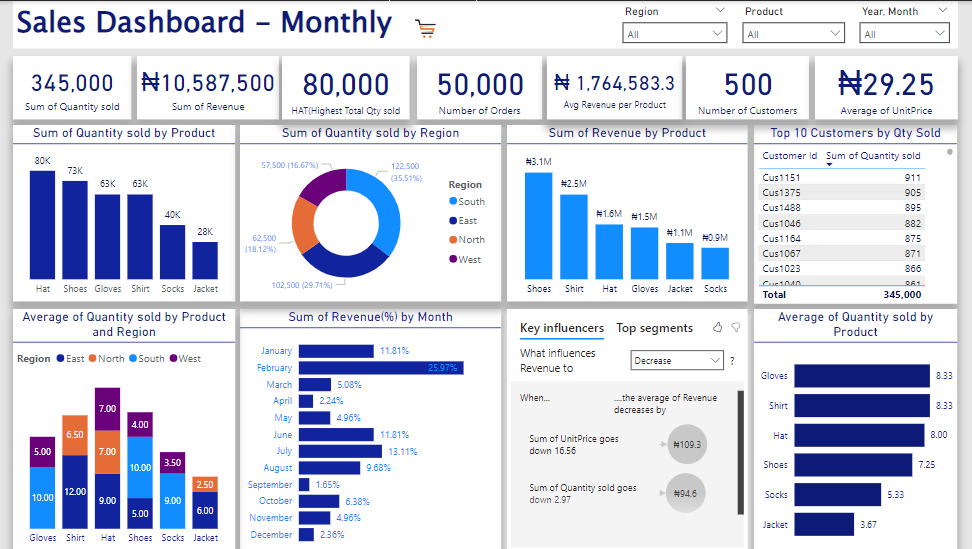

What the dashboard file says about the page in this screenshot:
{"tool":"powerbi","page":{"name":"Page 1","canvas":[1280,720],"ordinal":0},"visuals":[{"type":"textbox","title":"Sales Dashboard - Monthly","box":[17.6,19.1,1246,94],"z":0},{"type":"card","fields":{"Values":["Sum(Sheet1.Quantity sold)"]},"box":[17.6,113.1,248.3,107.3],"z":1000},{"type":"card","fields":{"Values":["Sum(Sheet1.Revenue)"]},"box":[288,114.6,227.8,105.8],"z":2000},{"type":"card","fields":{"Values":["CountNonNull(Sheet1.OrderID)"]},"box":[756.7,114.6,249.8,105.8],"z":3000},{"type":"clusteredColumnChart","fields":{"Category":["Sheet1.Product"],"Y":["Sum(Sheet1.Quantity sold)"]},"box":[17.6,229.2,383.5,230.7],"z":4000},{"type":"areaChart","fields":{"Category":["Sheet1.Region","Sheet1.OrderMonth.Variation.Date Hierarchy.Month","Sheet1.OrderMonth.Variation.Date Hierarchy.Day"],"Y":["Sum(Sheet1.Revenue)"]},"box":[17.6,470.2,498.1,238],"z":5000},{"type":"donutChart","fields":{"Y":["Sum(Sheet1.Quantity sold)"],"Category":["Sheet1.Region"]},"box":[423.2,229.2,396.7,230.7],"z":6000},{"type":"tableEx","title":"Top 10 Customers by Qty Sold","fields":{"Values":["Sheet1.Customer Id","Sum(Sheet1.Quantity sold)"]},"box":[953.6,470.2,310,238],"z":7000},{"type":"clusteredColumnChart","fields":{"Y":["Sum(Sheet1.Revenue)"],"Category":["Sheet1.Product"]},"box":[837.6,229.2,426.1,230.7],"z":8000},{"type":"clusteredBarChart","fields":{"Y":["Avg(Sheet1.Quantity sold)"],"Category":["Sheet1.Product"]},"box":[542.2,470.2,386.4,238],"z":9000},{"type":"slicer","fields":{"Values":["Sheet1.OrderMonth.Variation.Date Hierarchy.Year","Sheet1.OrderMonth.Variation.Date Hierarchy.Month"]},"box":[1116.7,20.6,163.1,61.7],"z":10000},{"type":"slicer","fields":{"Values":["Sheet1.Product"]},"box":[919.8,20.6,196.9,61.7],"z":12000},{"type":"card","fields":{"Values":["Sheet1.Avg Revenue per Product"]},"box":[1018.3,113.1,245.4,107.3],"z":13000},{"type":"slicer","fields":{"Values":["Sheet1.Region"]},"box":[740.6,20.6,179.3,61.7],"z":14000},{"type":"image","box":[506.9,19.1,70.5,61.7],"z":15000},{"type":"card","fields":{"Values":["Sum(Sheet1.Quantity sold)"]},"box":[529.1,114.2,211.7,105.8],"z":15001}]}

Visuals, with their boxes in screenshot pixels (x1, y1, x2, y2), scaled from the page's 1280x720 canvas onto the 972x549 screenshot:
"Sales Dashboard - Monthly" textbox: BBox(13, 15, 960, 86)
card - Sum(Sheet1.Quantity sold): BBox(13, 86, 202, 168)
card - Sum(Sheet1.Revenue): BBox(219, 87, 392, 168)
card - CountNonNull(Sheet1.OrderID): BBox(575, 87, 764, 168)
clusteredColumnChart - Sheet1.Product x Sum(Sheet1.Quantity sold): BBox(13, 175, 305, 351)
areaChart - Sheet1.Region x Sheet1.OrderMonth.Variation.Date Hierarchy.Month: BBox(13, 359, 392, 540)
donutChart - Sum(Sheet1.Quantity sold) x Sheet1.Region: BBox(321, 175, 623, 351)
"Top 10 Customers by Qty Sold" tableEx: BBox(724, 359, 960, 540)
clusteredColumnChart - Sum(Sheet1.Revenue) x Sheet1.Product: BBox(636, 175, 960, 351)
clusteredBarChart - Avg(Sheet1.Quantity sold) x Sheet1.Product: BBox(412, 359, 705, 540)
slicer - Sheet1.OrderMonth.Variation.Date Hierarchy.Year x Sheet1.OrderMonth.Variation.Date Hierarchy.Month: BBox(848, 16, 971, 63)
slicer - Sheet1.Product: BBox(698, 16, 848, 63)
card - Sheet1.Avg Revenue per Product: BBox(773, 86, 960, 168)
slicer - Sheet1.Region: BBox(562, 16, 699, 63)
image: BBox(385, 15, 438, 62)
card - Sum(Sheet1.Quantity sold): BBox(402, 87, 563, 168)
